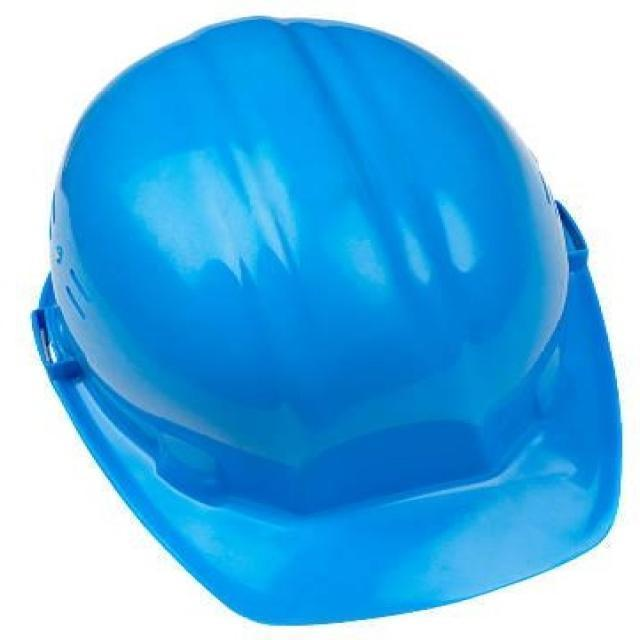helmet: (34, 19, 619, 623)
